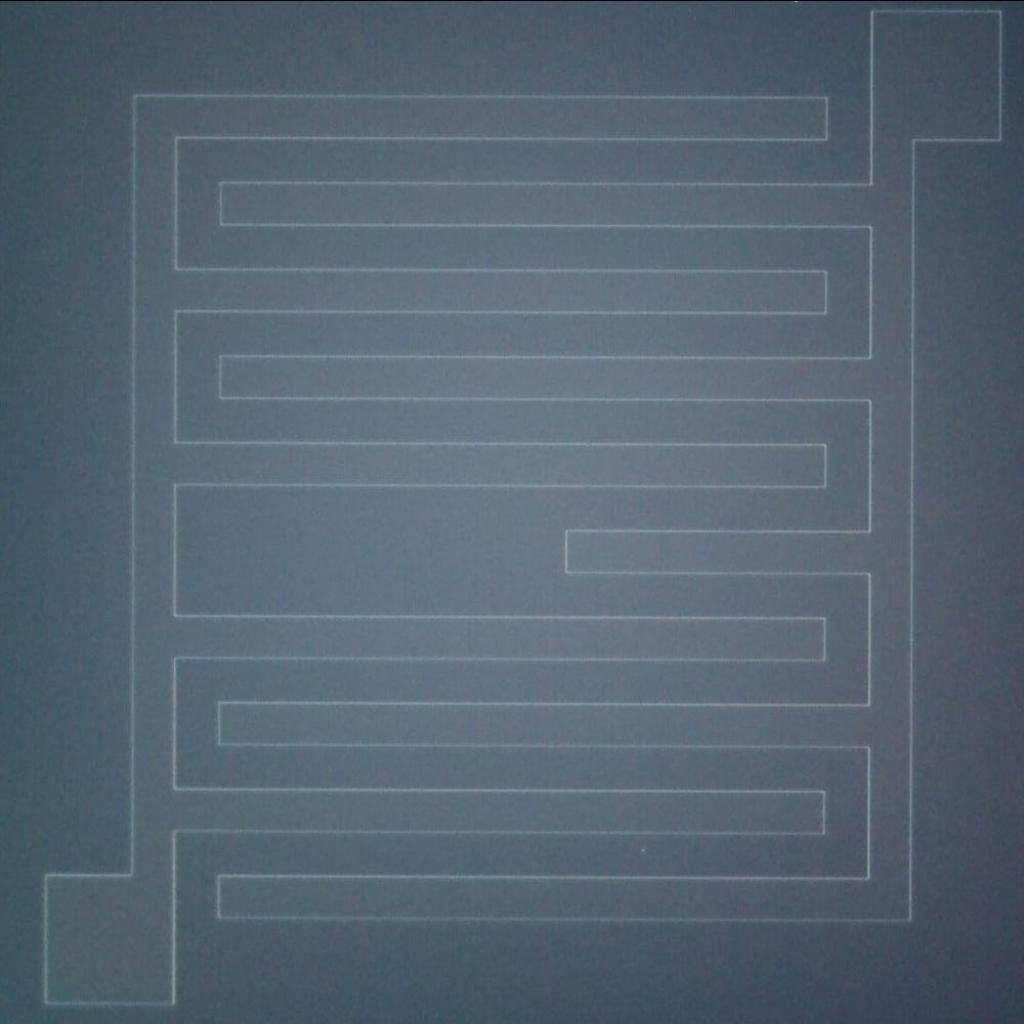cut circuit: (154, 504, 886, 603)
